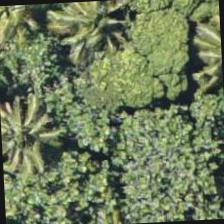Kelapa_Sawit: (0, 86, 62, 180), (0, 3, 50, 94)
